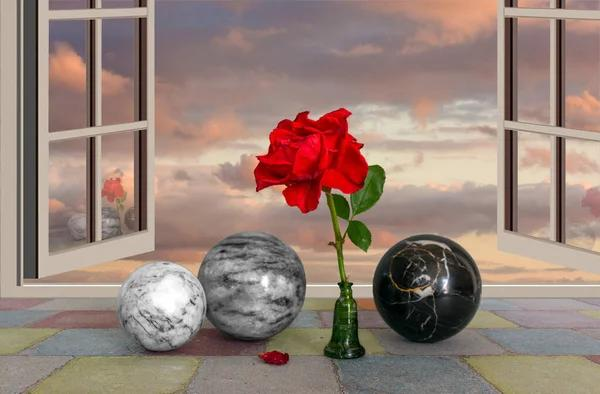Rose: (253, 105, 370, 216)
